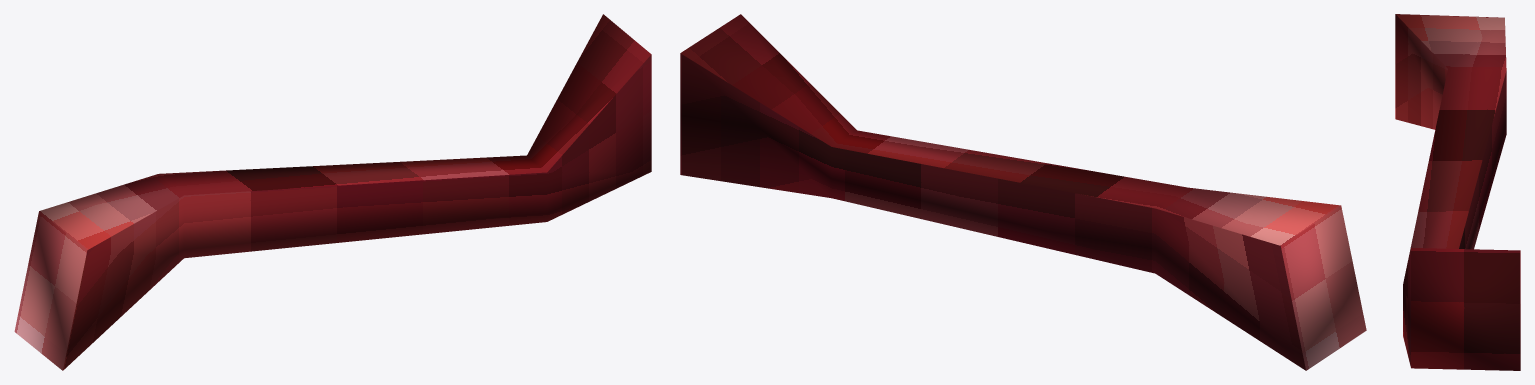
File: gore3.FBX
3 renders of one model, left to right at view 1: azimuth 30°, elevation 25°; view 2: azimuth 150°, elevation 25°; view 3: azimuth 270°, elevation 25°, orthographic. The views are drawn at different scales.
Visible parts, largest first — view 1: Box002; view 2: Box002; view 3: Box002.
Boxes of the visible parts, x1=… form: Box002: x1=14, y1=14, x2=651, y2=370; Box002: x1=680, y1=14, x2=1366, y2=370; Box002: x1=1395, y1=14, x2=1520, y2=370.
Bounding box in the file's own units: 12.83 × 3.4 × 2.25.
1 material, 1 textured.
